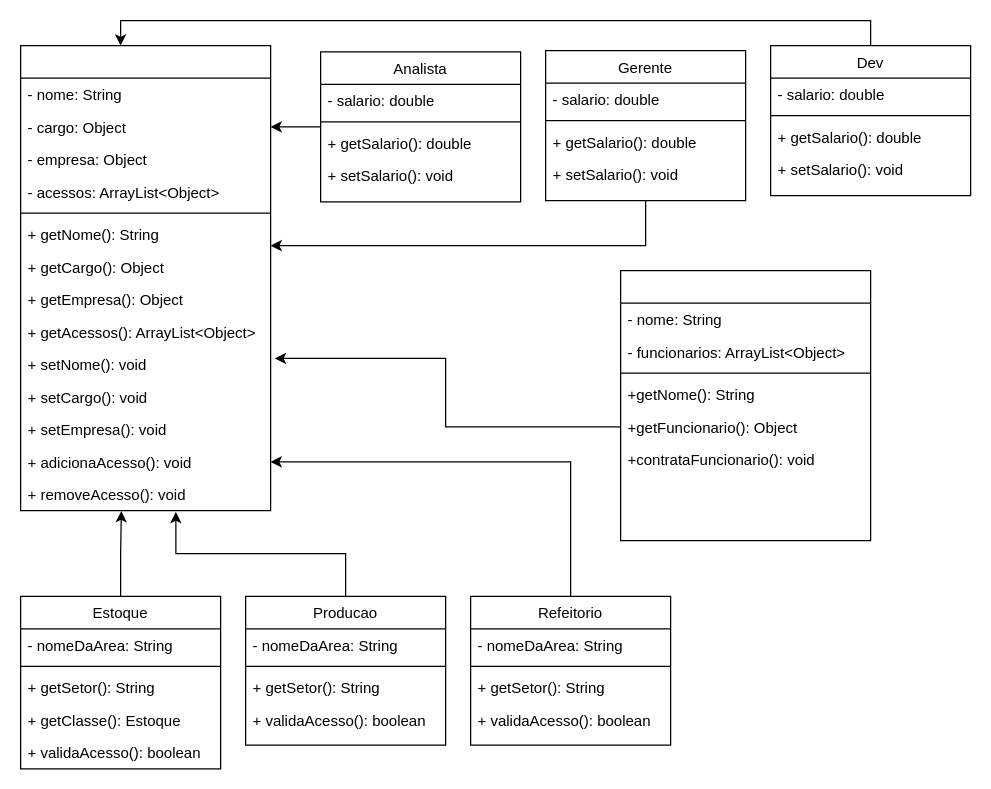
Image size: 991x789. Some labels were removed from this diagram. The shapes that lost their labels are listed below. From the top down, each one's box as (x1, y1, x2, y2) in pixels, then its label:
(19, 44, 271, 511): Funcionario
(619, 269, 871, 541): Empresa
